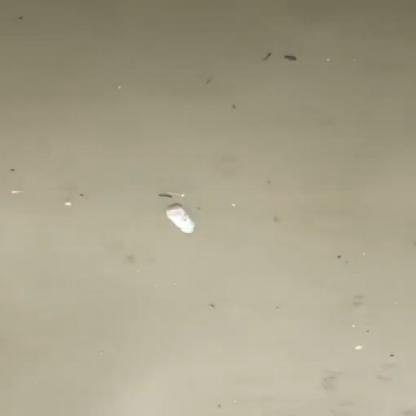Plastic: (163, 203, 197, 237)
